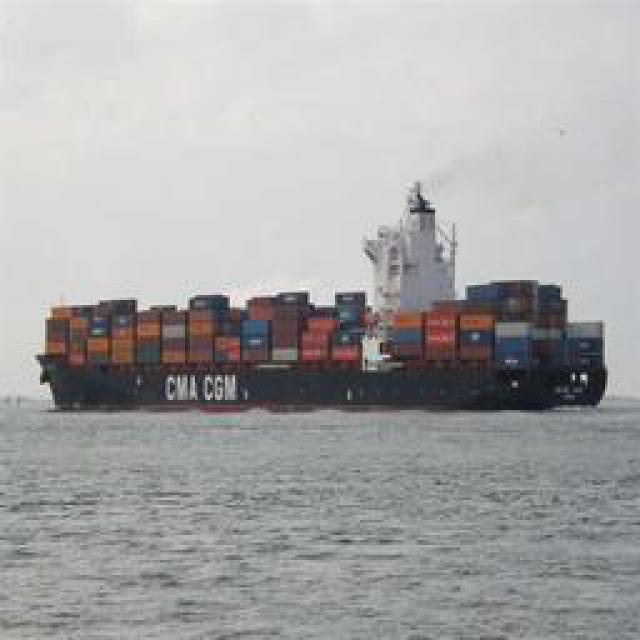Ship: (33, 170, 629, 430)
